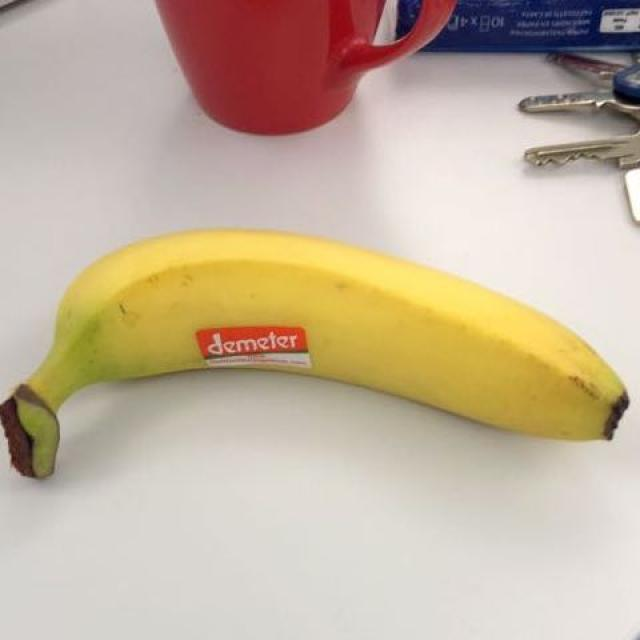Banana: (0, 220, 640, 500)
